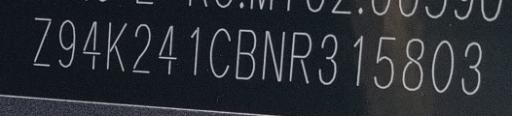letter: (259, 26, 287, 87), (371, 31, 399, 92), (232, 26, 260, 83), (398, 34, 426, 91), (286, 29, 314, 85), (430, 38, 458, 94), (458, 40, 484, 96), (208, 26, 234, 79), (78, 20, 104, 71), (105, 19, 129, 72), (156, 24, 180, 77), (30, 13, 52, 68), (318, 32, 340, 87), (130, 22, 152, 75), (348, 31, 366, 90), (56, 16, 76, 68), (187, 25, 203, 77)
